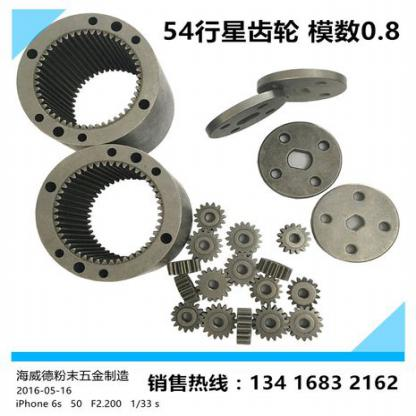FOD: (13, 12, 178, 159), (33, 141, 192, 284), (250, 299, 291, 341), (287, 303, 328, 342), (186, 225, 224, 263), (195, 265, 232, 302), (275, 222, 312, 257), (285, 275, 322, 310), (199, 303, 236, 338), (224, 221, 263, 254), (170, 298, 203, 336), (192, 200, 226, 231), (254, 258, 295, 281)
